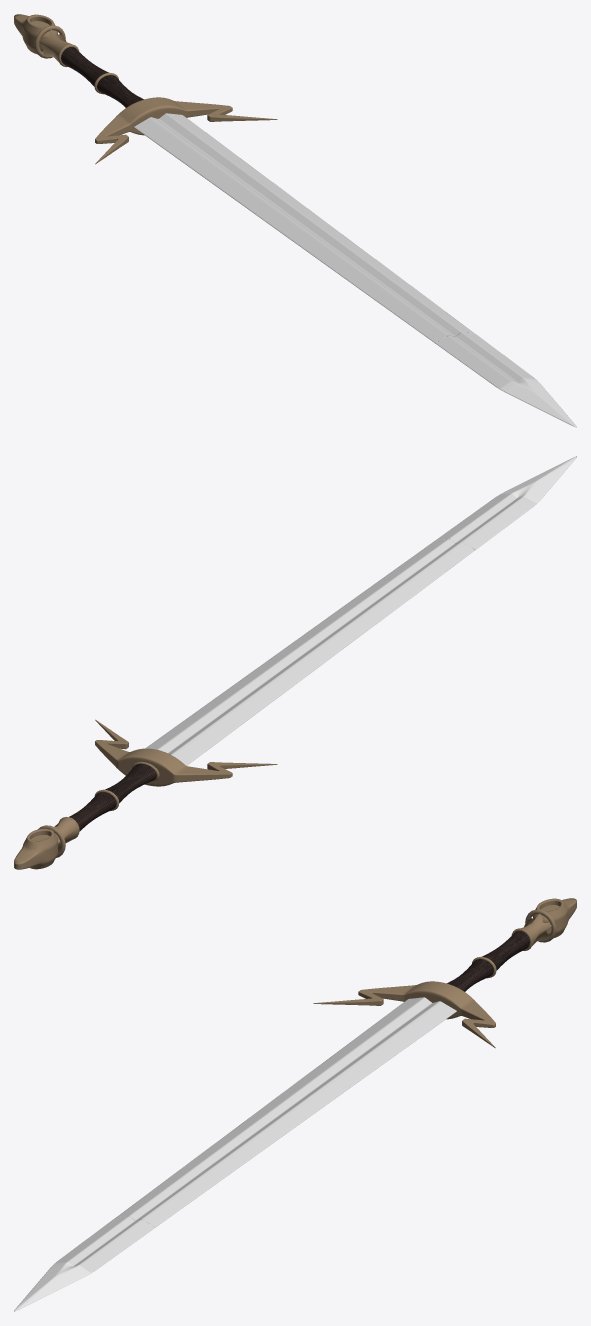
File: sword.glb
The picture shows the model from 3 angles, top to bottom: view 1: azimuth 30°, elevation 25°; view 2: azimuth 150°, elevation 25°; view 3: azimuth 330°, elevation 25°; orthographic projection.
Visible parts, largest first — view 1: Cube; view 2: Cube; view 3: Cube.
Part boxes in pixels (bbox=[...]): Cube: bbox=[14, 14, 576, 427]; Cube: bbox=[14, 456, 576, 869]; Cube: bbox=[14, 898, 576, 1311].
Size of the model in its own units: 1.67 by 0.2826 by 8.9.
Materials: 6 (1 with a texture image).
